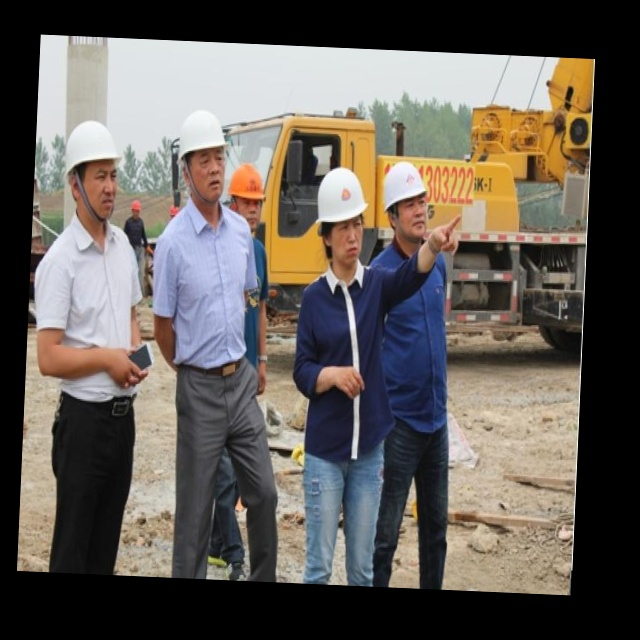Con_Casco: (60, 116, 123, 222), (316, 166, 370, 263)
Sin_Chaleco: (293, 261, 390, 443), (149, 200, 251, 372)
